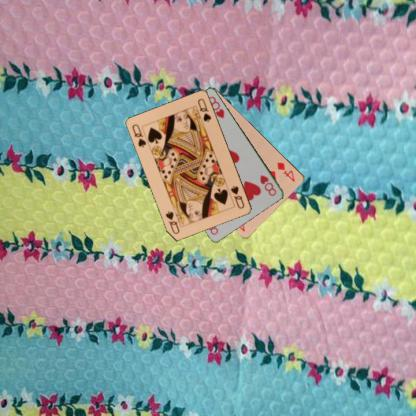4d: (274, 160, 296, 183)
8h: (258, 172, 278, 197)
Qs: (129, 122, 148, 148), (228, 183, 246, 210)
